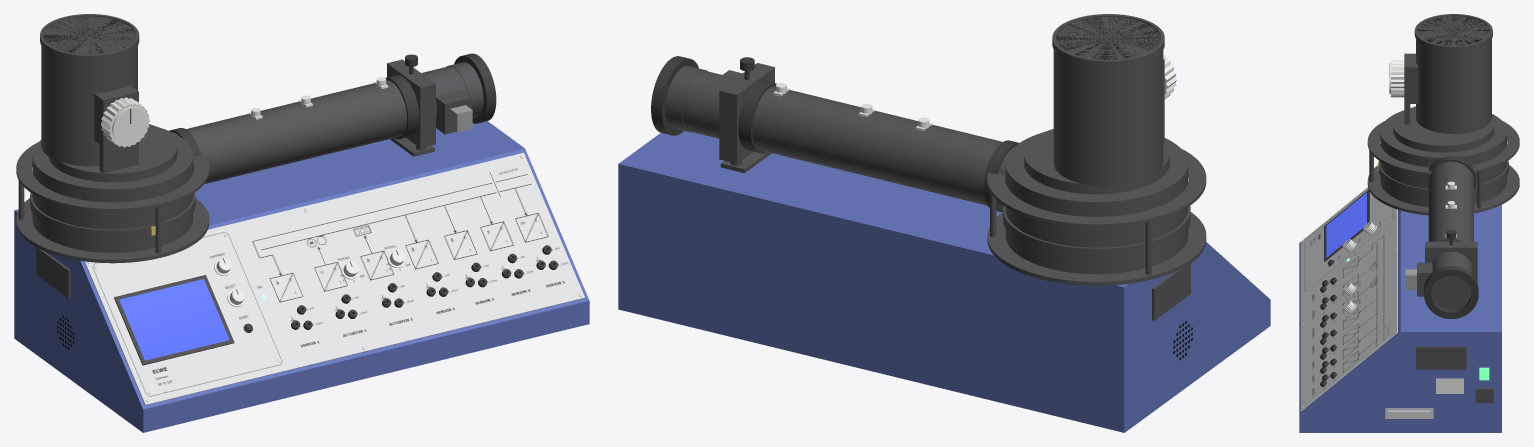
The model's file is ltr701.glb.
The picture shows the model from 3 angles, left to right: view 1: azimuth 30°, elevation 25°; view 2: azimuth 150°, elevation 25°; view 3: azimuth 270°, elevation 25°; orthographic projection. The views are drawn at different scales.
Visible parts, largest first — view 1: panel_print, case_body, blower_housing, heater_tube_body, intake_tube, lcd_screen, air_mass_meter_body, outlet_clamp_body, intake_yoke, intake_damper_knob_body, lcd_bezel, heater_tube_collars (+5 smaller); view 2: case_body, blower_housing, intake_tube, heater_tube_body, air_mass_meter_body, outlet_clamp_body, intake_grille, heater_tube_collars, air_mass_meter_outlet, handle_left; view 3: case_body, panel_print, blower_housing, intake_tube, heater_tube_body, air_mass_meter_body, lcd_screen, air_mass_meter_outlet, handle_right, outlet_clamp_body, intake_yoke, intake_grille (+8 smaller).
Boxes of the visible parts, x1=… form: panel_print: x1=85, y1=152, x2=584, y2=404; case_body: x1=14, y1=121, x2=589, y2=432; blower_housing: x1=16, y1=124, x2=209, y2=263; heater_tube_body: x1=174, y1=80, x2=406, y2=184; intake_tube: x1=40, y1=14, x2=139, y2=166; lcd_screen: x1=119, y1=279, x2=229, y2=360; air_mass_meter_body: x1=421, y1=62, x2=483, y2=134; outlet_clamp_body: x1=387, y1=59, x2=435, y2=156; intake_yoke: x1=94, y1=85, x2=138, y2=173; intake_damper_knob_body: x1=100, y1=97, x2=149, y2=147; lcd_bezel: x1=114, y1=275, x2=234, y2=365; heater_tube_collars: x1=169, y1=75, x2=419, y2=171; case_body: x1=618, y1=131, x2=1270, y2=432; blower_housing: x1=987, y1=129, x2=1206, y2=285; intake_tube: x1=1052, y1=14, x2=1164, y2=186; heater_tube_body: x1=752, y1=86, x2=1013, y2=208; air_mass_meter_body: x1=665, y1=66, x2=742, y2=138; outlet_clamp_body: x1=719, y1=63, x2=774, y2=173; intake_grille: x1=1056, y1=17, x2=1160, y2=59; heater_tube_collars: x1=738, y1=80, x2=1018, y2=212; air_mass_meter_outlet: x1=651, y1=56, x2=698, y2=135; handle_left: x1=1152, y1=263, x2=1190, y2=320; case_body: x1=1299, y1=205, x2=1501, y2=432; panel_print: x1=1300, y1=187, x2=1397, y2=410; blower_housing: x1=1367, y1=106, x2=1519, y2=215; intake_tube: x1=1414, y1=14, x2=1492, y2=133; heater_tube_body: x1=1428, y1=161, x2=1473, y2=241; air_mass_meter_body: x1=1417, y1=251, x2=1472, y2=309; lcd_screen: x1=1326, y1=192, x2=1366, y2=257; air_mass_meter_outlet: x1=1424, y1=266, x2=1478, y2=319; handle_right: x1=1416, y1=346, x2=1466, y2=369; outlet_clamp_body: x1=1425, y1=241, x2=1477, y2=282; intake_yoke: x1=1404, y1=53, x2=1418, y2=124; intake_grille: x1=1417, y1=16, x2=1490, y2=45.
Bounding box in the file's own units: 0.848 × 0.548 × 0.435.
18 materials, 3 textured.
